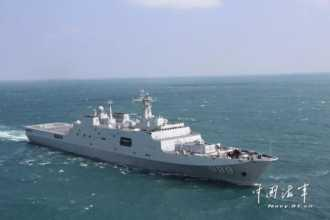warship: (23, 75, 278, 188)
